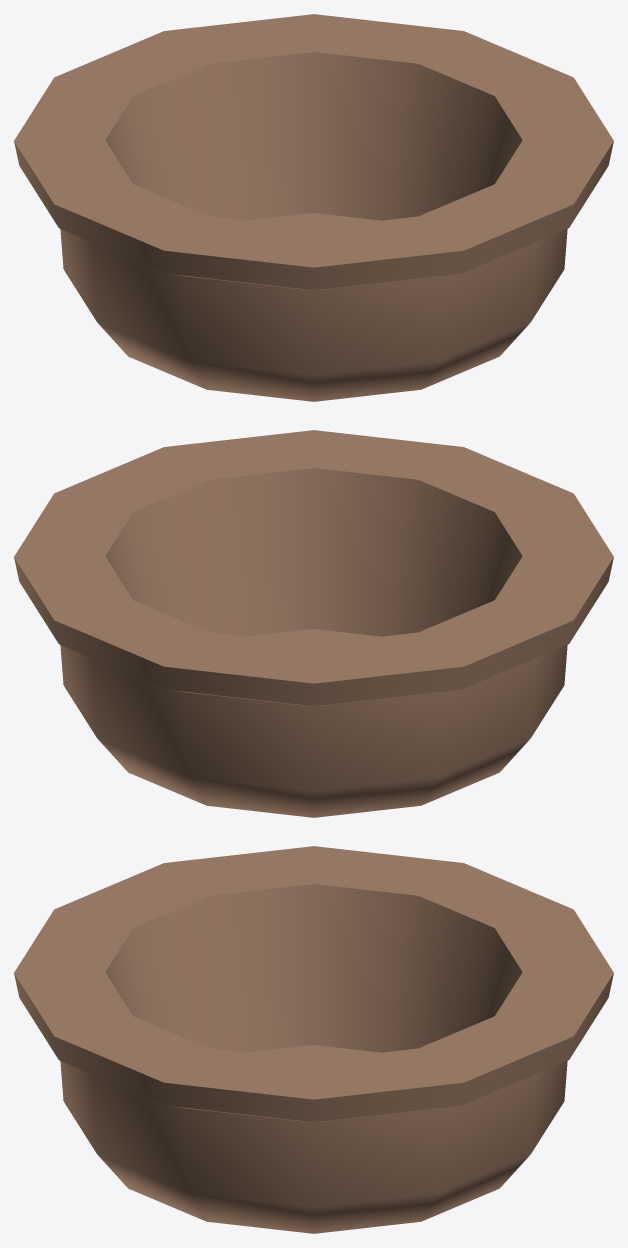
The model's file is Bowl_Brown.fbx.
The picture shows the model from 3 angles, top to bottom: view 1: azimuth 30°, elevation 25°; view 2: azimuth 150°, elevation 25°; view 3: azimuth 270°, elevation 25°; orthographic projection.
Visible parts, largest first — view 1: Bowl_Brown; view 2: Bowl_Brown; view 3: Bowl_Brown.
Part boxes in pixels (left/top/right/bottom): Bowl_Brown: left=14, top=14, right=613, bottom=401; Bowl_Brown: left=14, top=430, right=613, bottom=817; Bowl_Brown: left=14, top=846, right=613, bottom=1233.
Bounding box in the file's own units: 47.29 × 14.88 × 47.29.
